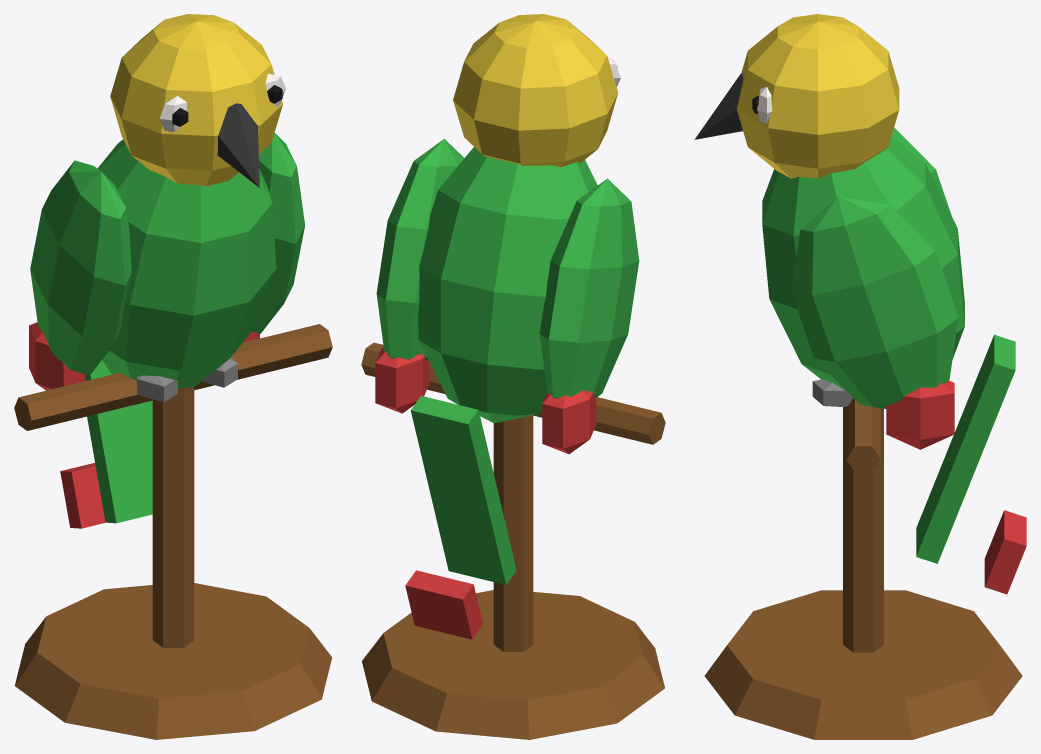
File: npc_loro.glb
3 views of the same model, side by side, from view 1: azimuth 30°, elevation 25°; view 2: azimuth 150°, elevation 25°; view 3: azimuth 270°, elevation 25° (orthographic). The views are drawn at different scales.
Parts seen in each view (by area): view 1: perch_perch_wood, body_parrot_green, head_parrot_yellow, wing_left_parrot_green, tail_parrot_green, wing_right_parrot_green, head_beak, tail_parrot_red, wing_left_parrot_red, body_parrot_feet (×2), head_white; view 2: perch_perch_wood, body_parrot_green, head_parrot_yellow, wing_left_parrot_green, tail_parrot_green, wing_right_parrot_green, tail_parrot_red, wing_left_parrot_red, wing_right_parrot_red; view 3: perch_perch_wood, wing_right_parrot_green, head_parrot_yellow, body_parrot_green, tail_parrot_green, wing_right_parrot_red, tail_parrot_red, head_beak, body_parrot_feet, wing_left_parrot_green.
Boxes of the visible parts, box(x1,y1,x2,y2) form: perch_perch_wood: box(14, 324, 332, 739); body_parrot_green: box(97, 139, 276, 389); head_parrot_yellow: box(110, 14, 282, 186); wing_left_parrot_green: box(30, 160, 131, 375); tail_parrot_green: box(85, 360, 152, 523); wing_right_parrot_green: box(252, 133, 304, 333); head_beak: box(217, 103, 259, 187); tail_parrot_red: box(60, 463, 105, 528); wing_left_parrot_red: box(29, 322, 85, 390); body_parrot_feet (×2): box(136, 358, 237, 402); head_white: box(159, 73, 285, 132); perch_perch_wood: box(361, 342, 665, 739); body_parrot_green: box(417, 147, 597, 423); head_parrot_yellow: box(453, 14, 618, 167); wing_left_parrot_green: box(539, 178, 639, 398); tail_parrot_green: box(410, 396, 516, 584); wing_right_parrot_green: box(376, 139, 464, 360); tail_parrot_red: box(405, 570, 483, 639); wing_left_parrot_red: box(542, 390, 596, 454); wing_right_parrot_red: box(375, 347, 429, 413); perch_perch_wood: box(704, 398, 1022, 739); wing_right_parrot_green: box(791, 196, 958, 408); head_parrot_yellow: box(737, 14, 899, 178); body_parrot_green: box(762, 137, 964, 390); tail_parrot_green: box(916, 334, 1015, 563); wing_right_parrot_red: box(886, 380, 954, 449); tail_parrot_red: box(984, 510, 1026, 594); head_beak: box(694, 73, 743, 139); body_parrot_feet: box(812, 379, 852, 406); wing_left_parrot_green: box(891, 127, 951, 215).
Size of the model in its own units: 0.3 by 0.635 by 0.2923.
